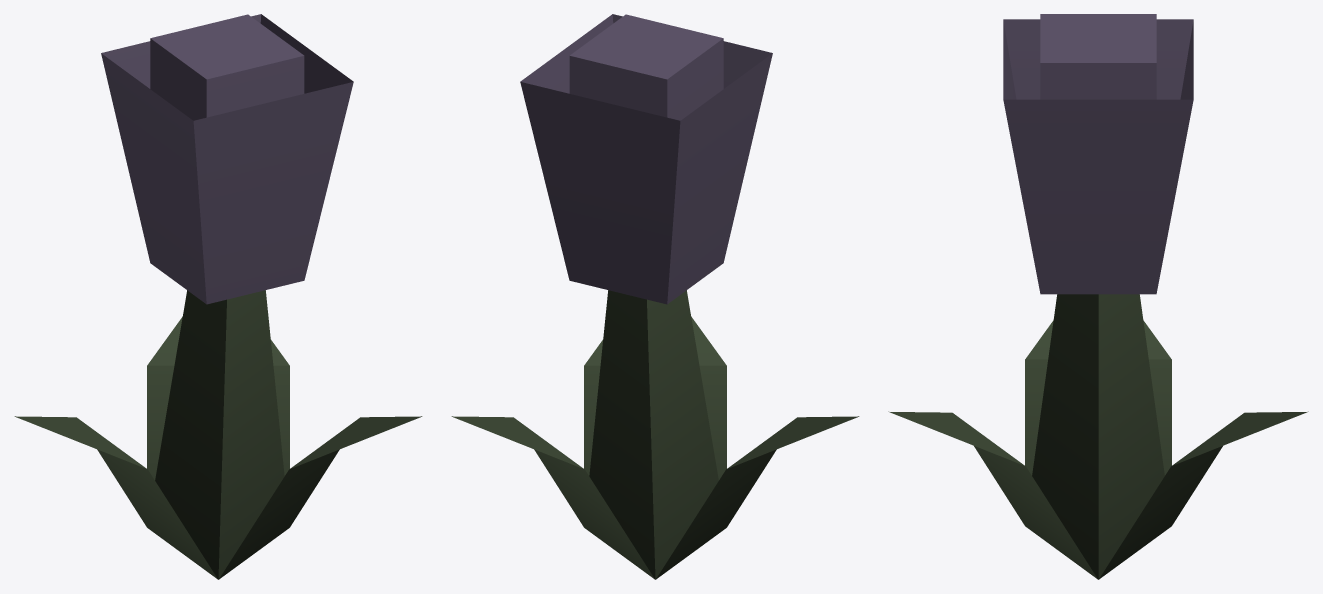
The model's file is blume_violett.glb.
The picture shows the model from 3 angles, left to right: view 1: azimuth 30°, elevation 25°; view 2: azimuth 150°, elevation 25°; view 3: azimuth 270°, elevation 25°; orthographic projection. The views are drawn at different scales.
Visible parts, largest first — view 1: blume_violett; view 2: blume_violett; view 3: blume_violett.
Part boxes in pixels (x1,y1,x2,y2): blume_violett: (14,14,422,579); blume_violett: (451,14,859,579); blume_violett: (888,14,1308,579).
Bounding box in the file's own units: 0.1443 × 0.22 × 0.1643.
